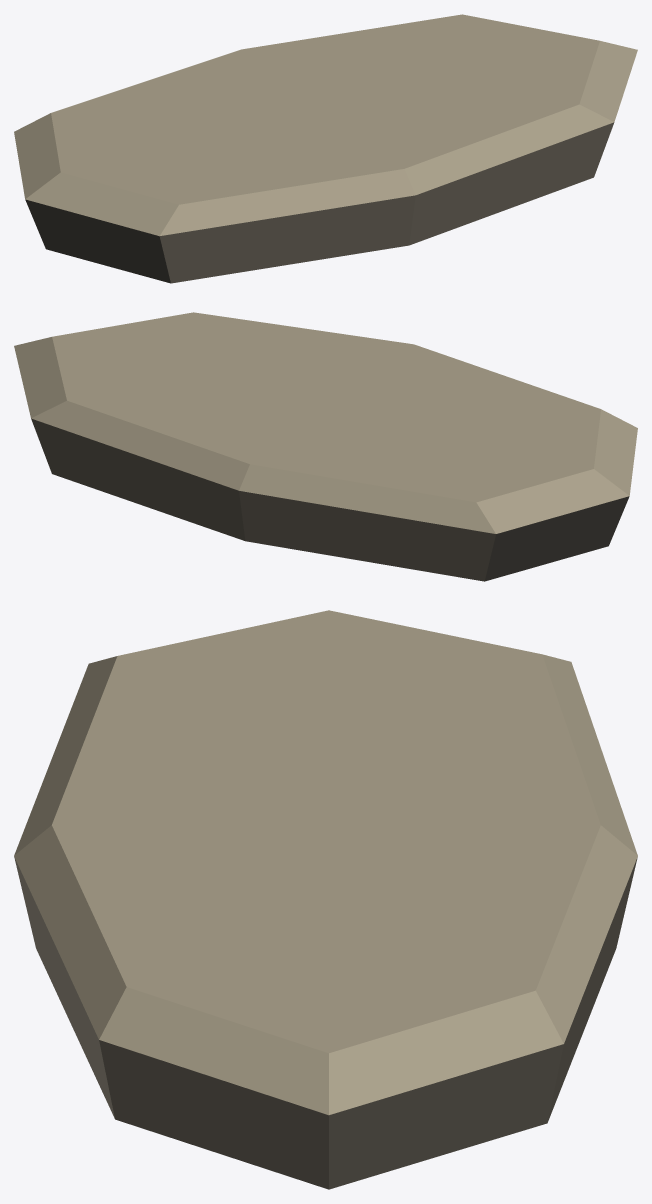
File: TW_PAVER_LONG_A_LOD0.glb
3 views of the same model, one above another, from view 1: azimuth 30°, elevation 25°; view 2: azimuth 150°, elevation 25°; view 3: azimuth 270°, elevation 25° (orthographic). The views are drawn at different scales.
Parts seen in each view (by area): view 1: TW_PAVER_LONG_A_LOD0; view 2: TW_PAVER_LONG_A_LOD0; view 3: TW_PAVER_LONG_A_LOD0.
Boxes of the visible parts, <box> form: TW_PAVER_LONG_A_LOD0: <box>14,14,637,283</box>; TW_PAVER_LONG_A_LOD0: <box>14,312,637,581</box>; TW_PAVER_LONG_A_LOD0: <box>14,610,637,1189</box>.
Size of the model in its own units: 1.05 by 0.12 by 0.55.
Materials: 1 (1 with a texture image).
